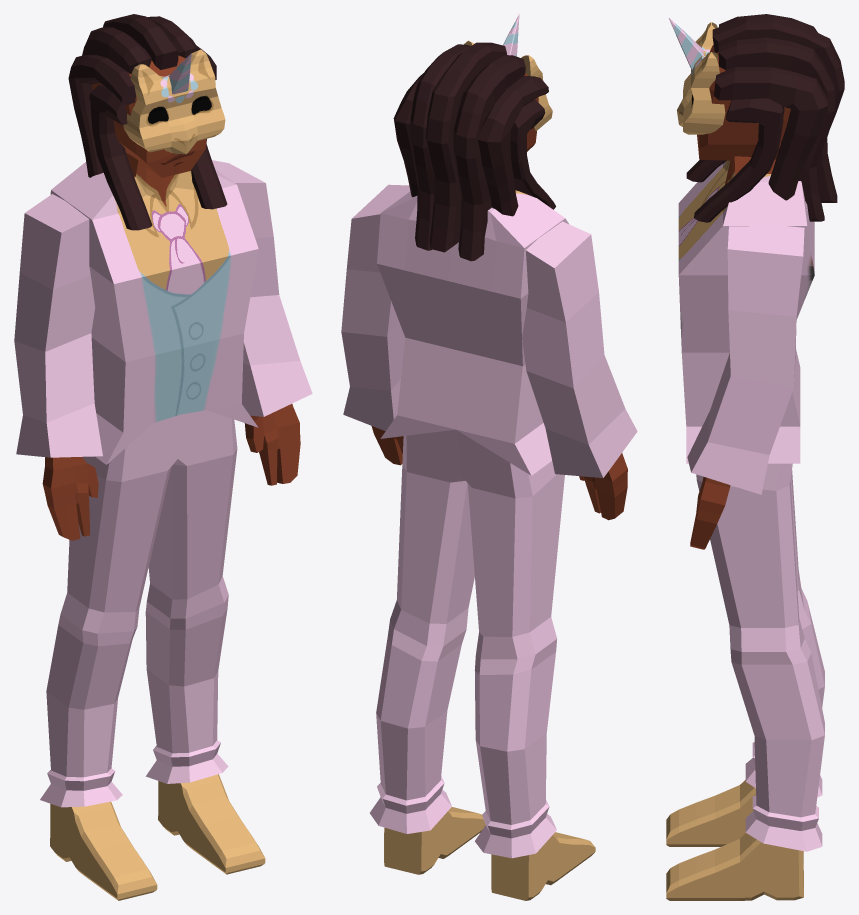
File: unicorn_body.fbx
3 renders of one model, left to right at view 1: azimuth 30°, elevation 25°; view 2: azimuth 150°, elevation 25°; view 3: azimuth 270°, elevation 25°, orthographic. The views are drawn at different scales.
Parts seen in each view (by area): view 1: Cube.014, Cube.013, Cube.012, Cube.005, Cube.015, Cube.009, Cube.010, Cube.001; view 2: Cube.014, Cube.013, Cube.012, Cube.005, Cube.015, Cube.010, Cube.009; view 3: Cube.014, Cube.005, Cube.012, Cube.013, Cube.015, Cube.009, Cube.001, Cube.010.
Boxes of the visible parts, x1,y1,x2,y2 form: Cube.014: (40, 410, 237, 807); Cube.013: (50, 152, 258, 464); Cube.012: (14, 160, 312, 457); Cube.005: (68, 14, 227, 230); Cube.015: (50, 774, 265, 900); Cube.009: (123, 49, 225, 154); Cube.010: (42, 404, 300, 540); Cube.001: (92, 55, 206, 177); Cube.014: (370, 429, 564, 858); Cube.013: (377, 190, 569, 475); Cube.012: (341, 184, 637, 477); Cube.005: (393, 42, 555, 261); Cube.015: (384, 807, 595, 900); Cube.010: (371, 426, 627, 520); Cube.009: (464, 14, 552, 131); Cube.014: (696, 463, 824, 851); Cube.005: (686, 14, 844, 222); Cube.012: (687, 225, 804, 494); Cube.013: (678, 156, 814, 463); Cube.015: (666, 780, 803, 900); Cube.009: (668, 18, 725, 134); Cube.001: (697, 45, 790, 160); Cube.010: (690, 476, 730, 549).
Bounding box in the file's own units: 95.57 × 289 × 55.2.
